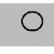no answer: (20, 9, 45, 32)
